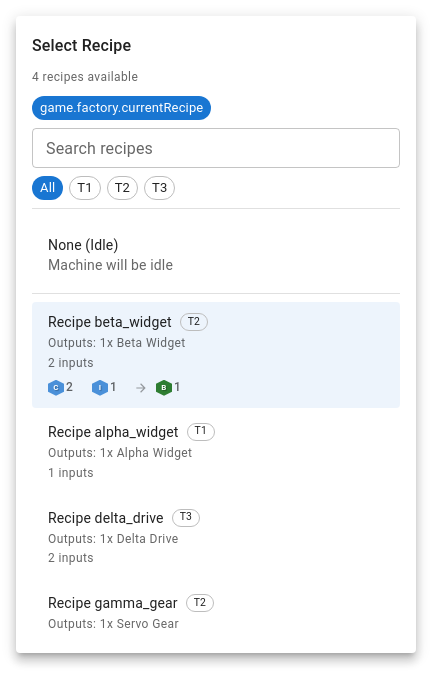
Scenario: RecipeDropdown › filters recipes by search text across material names
In the field labelled "Search recipes": point(216, 148) [32,128,400,168], type "alpha widget"
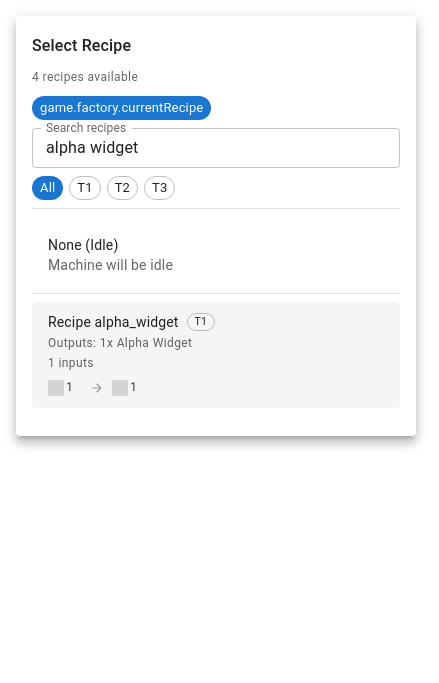
Now the button with test id "recipe-option-beta_widget" is gone
Now the button with test id "recipe-option-gamma_gear" is gone
Now the button with test id "recipe-option-delta_drive" is gone
